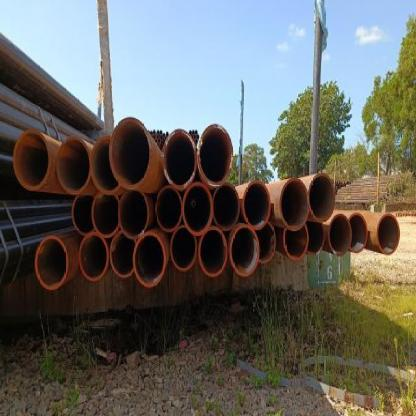pipe: (108, 116, 152, 189), (12, 127, 52, 191), (196, 121, 234, 186), (161, 128, 197, 192), (88, 134, 124, 193), (55, 134, 90, 194), (35, 232, 68, 291), (132, 232, 166, 287), (182, 180, 214, 236), (278, 176, 310, 232), (228, 223, 260, 278), (118, 186, 150, 238), (197, 224, 228, 276), (240, 180, 272, 230), (78, 232, 109, 280), (90, 191, 121, 239), (108, 231, 138, 280), (308, 170, 336, 222), (154, 184, 183, 233), (212, 182, 240, 232), (170, 225, 198, 273), (375, 207, 402, 256), (326, 212, 354, 257), (71, 191, 98, 235), (282, 221, 308, 261), (252, 219, 275, 264), (348, 210, 370, 254), (307, 219, 325, 256)
